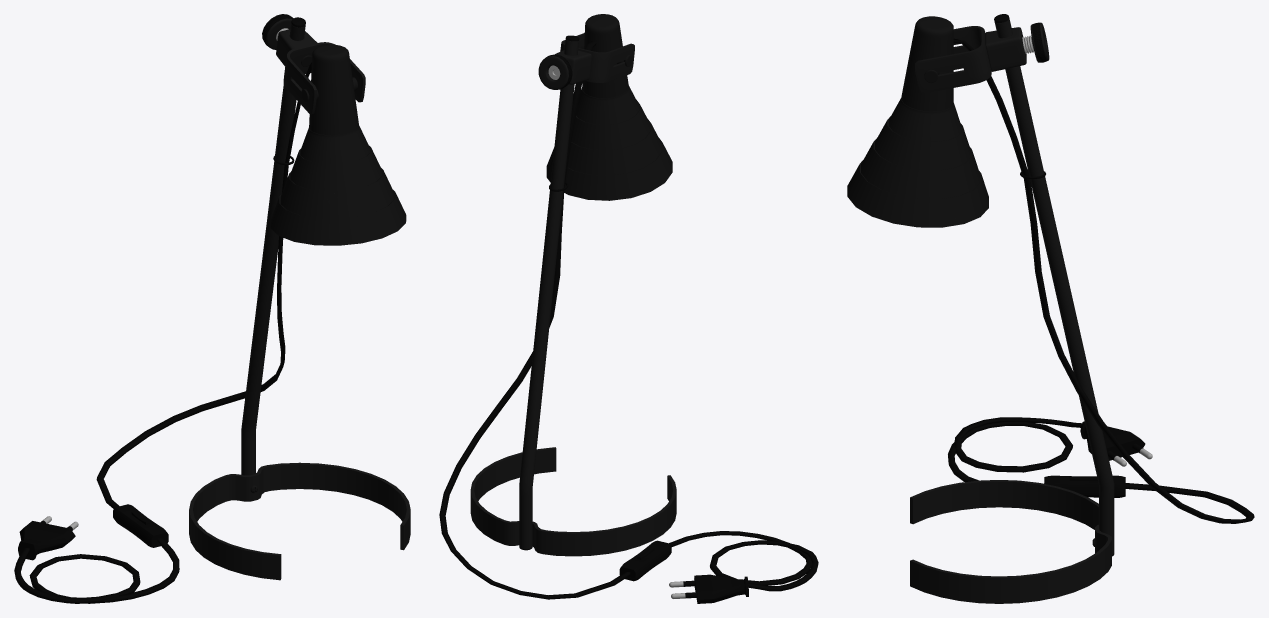
File: lamp.obj
3 renders of one model, left to right at view 1: azimuth 30°, elevation 25°; view 2: azimuth 150°, elevation 25°; view 3: azimuth 270°, elevation 25°, orthographic. The views are drawn at different scales.
Visible parts, largest first — view 1: lamp; view 2: lamp; view 3: lamp.
Boxes of the visible parts, left/top/right/bottom form: lamp: left=14, top=14, right=410, bottom=603; lamp: left=439, top=14, right=818, bottom=603; lamp: left=847, top=14, right=1254, bottom=603.
Size of the model in its own units: 32.64 by 44.57 by 30.49.
Materials: 1 (1 with a texture image).
